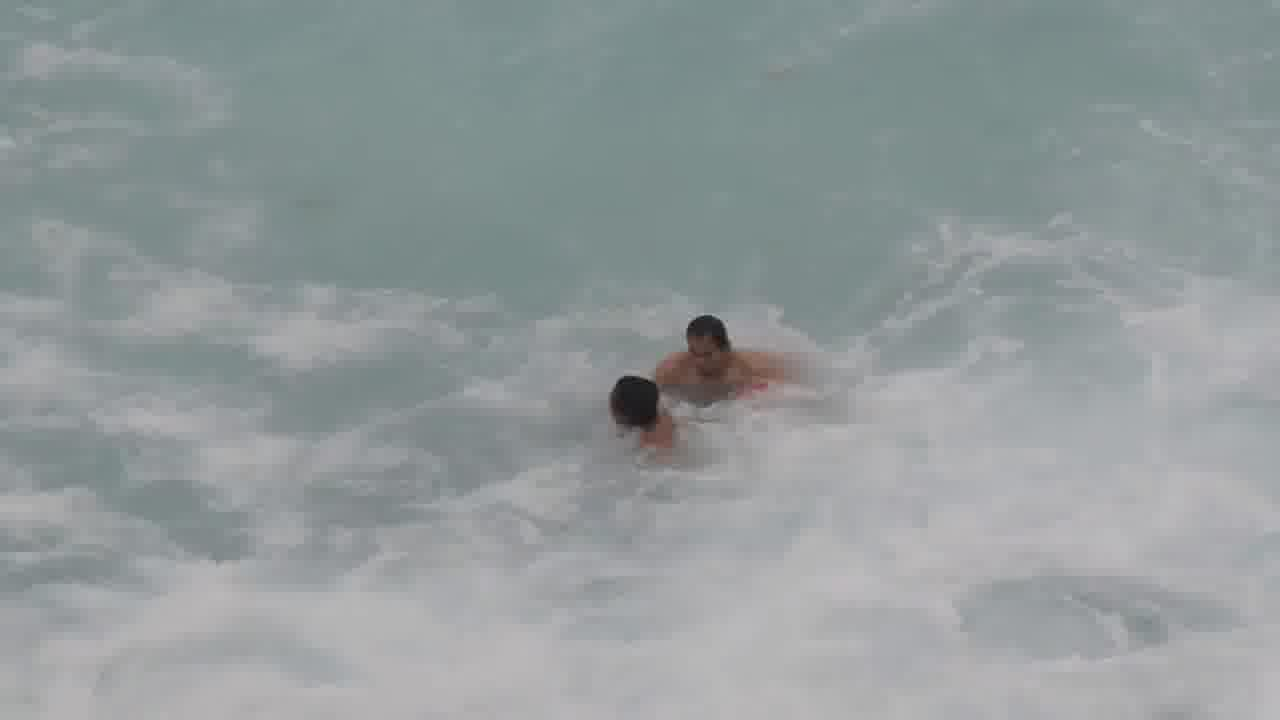swimmer: (640, 312, 811, 404), (590, 368, 689, 463)
